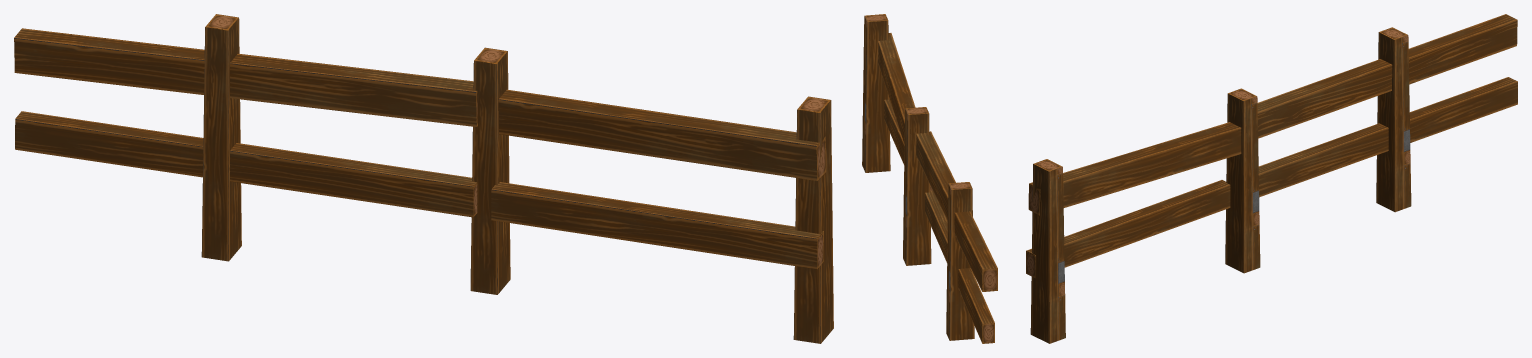
The picture shows the model from 3 angles, left to right: view 1: azimuth 30°, elevation 25°; view 2: azimuth 150°, elevation 25°; view 3: azimuth 270°, elevation 25°; orthographic projection. The views are drawn at different scales.
Parts seen in each view (by area): view 1: Cube.479; view 2: Cube.479; view 3: Cube.479.
Boxes of the visible parts, x1=… form: Cube.479: x1=14, y1=14, x2=833, y2=343; Cube.479: x1=862, y1=14, x2=997, y2=343; Cube.479: x1=1026, y1=14, x2=1517, y2=343.
Bounding box in the file's own units: 309 × 132 × 343.
Materials: 1 (1 with a texture image).
